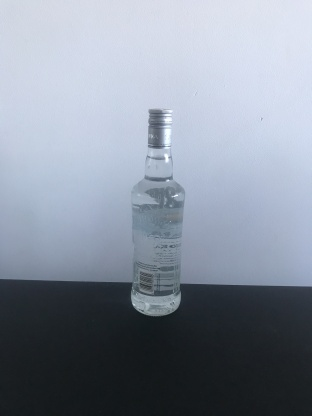nakretka: (145, 106, 174, 151)
